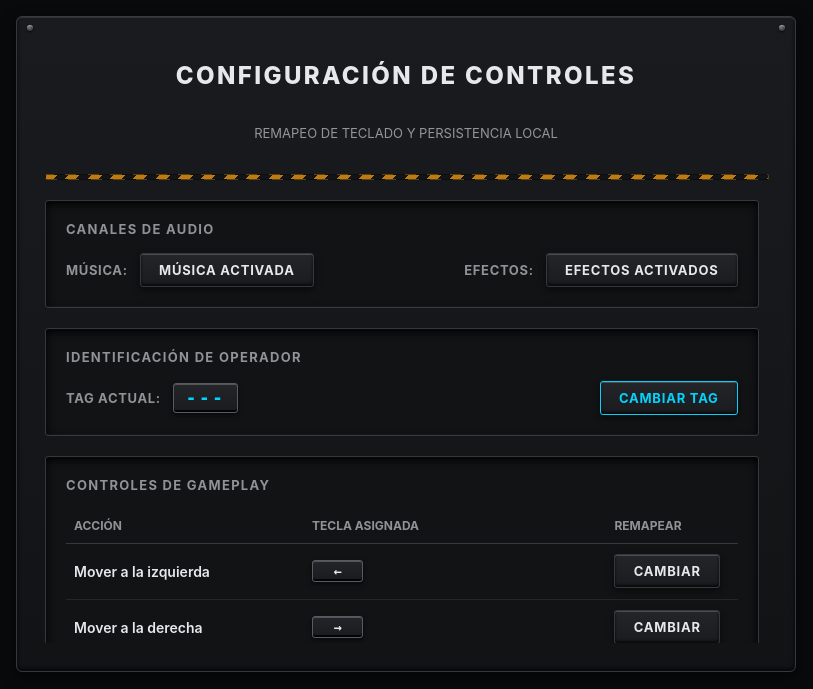
Test: SettingsScreen.vue — Interfaz y captura de controles › renderiza la sección de canales de audio y permite alternar Música y SFX
Expected: the button with test id "settings-sfx-toggle-button" reads "EFECTOS ACTIVADOS", [546,253,738,287]
Click the button with test id "settings-music-toggle-button". click: [227, 270]
box: [140,253,314,287]
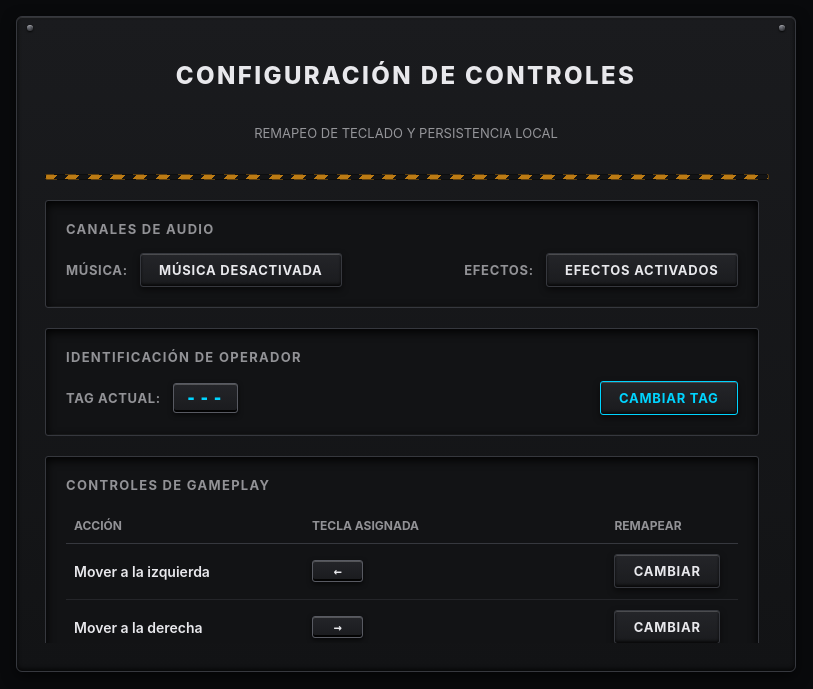
Now the button with test id "settings-music-toggle-button" reads "MÚSICA DESACTIVADA", box [140,253,342,287]
Click the button with test id "settings-sfx-toggle-button". click: [642, 270]
box: [546,253,738,287]
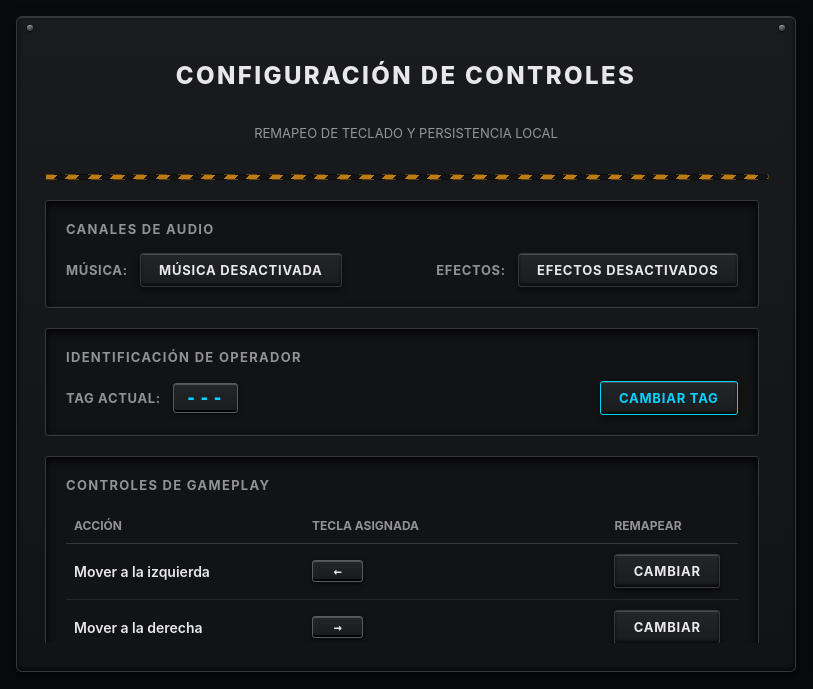
Now the button with test id "settings-sfx-toggle-button" reads "EFECTOS DESACTIVADOS", box [518,253,738,287]
